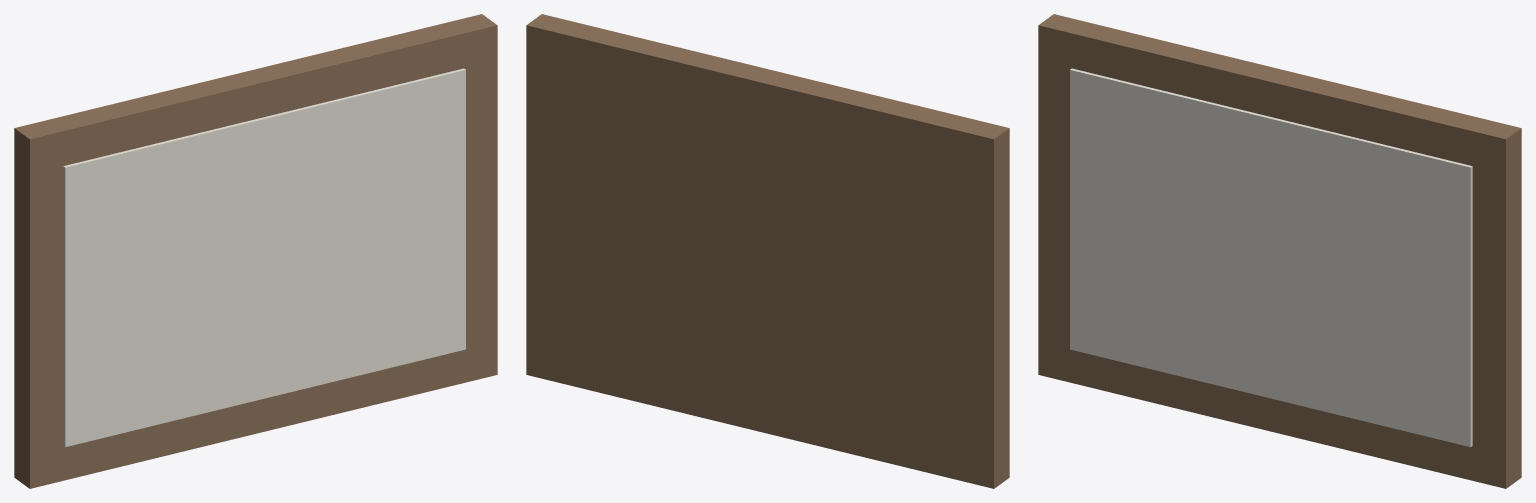
The model's file is artwork.glb.
3 renders of one model, left to right at view 1: azimuth 30°, elevation 25°; view 2: azimuth 150°, elevation 25°; view 3: azimuth 330°, elevation 25°, orthographic.
Parts seen in each view (by area): view 1: artwork; view 2: artwork; view 3: artwork.
Part boxes in pixels (x1,y1,x2,y2): artwork: (14, 14, 497, 488); artwork: (526, 14, 1009, 488); artwork: (1038, 14, 1521, 488).
Size of the model in its own units: 0.7 by 0.5 by 0.045.
